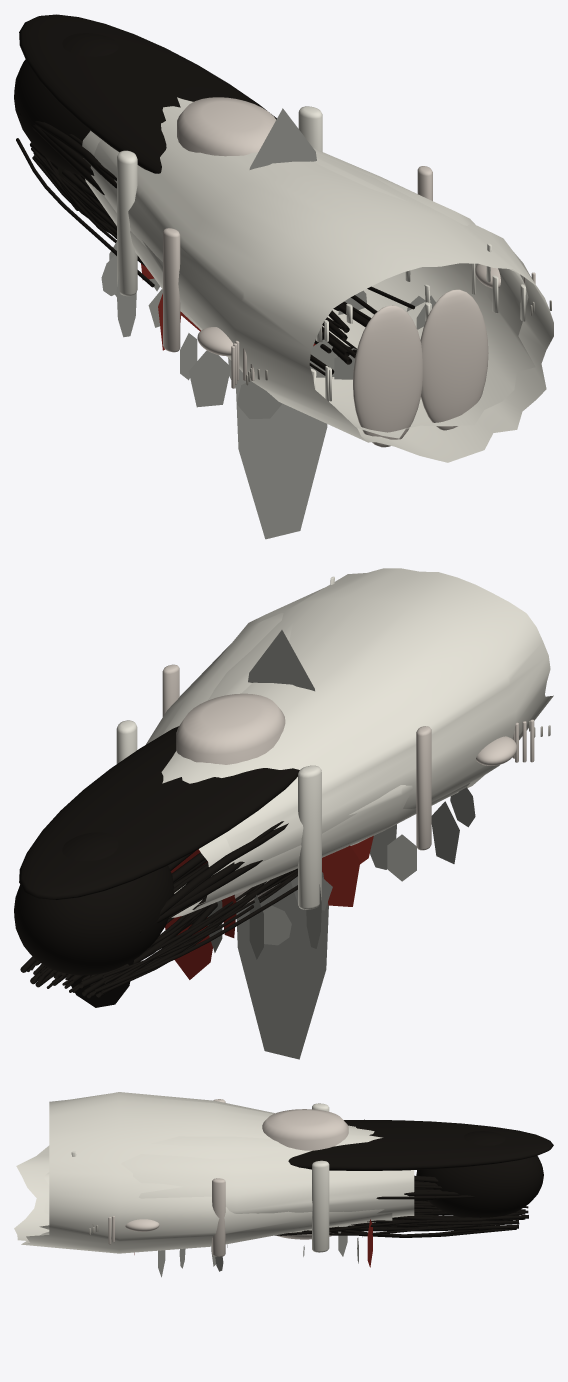
File: yurei_woman_v1.glb
3 renders of one model, top to bottom at view 1: azimuth 30°, elevation 25°; view 2: azimuth 150°, elevation 25°; view 3: azimuth 270°, elevation 25°, orthographic. The views are drawn at different scales.
Visible parts, largest first — view 1: ragged outer robe panels, long back hair sheet, torn long white dress, vertical damp front shadow, -1 barely visible bare foot, 1 barely visible bare foot, thin hidden torso, wet black hair mass, -1 thin upper arm under sleeve, -1 hanging forearm, robe dirt stain 15, robe dirt stain 06 (+5 smaller); view 2: ragged outer robe panels, long back hair sheet, wet black hair mass, vertical damp front shadow, torn long white dress, thin hidden torso, -1 thin upper arm under sleeve, -1 hanging forearm, robe dirt stain 27, robe dirt stain 15, side hair lock -1_06, old chest stain (+15 smaller); view 3: ragged outer robe panels, torn long white dress, long back hair sheet, wet black hair mass, thin hidden torso, 1 thin upper arm under sleeve, 1 hanging forearm, front wet hair strand 42, front wet hair strand 18, front wet hair strand 39, front wet hair strand 36, front wet hair strand 50 (+3 smaller).
Part boxes in pixels (box(x1,y1,x2,y2)): ragged outer robe panels: box(90, 97, 553, 462); long back hair sheet: box(19, 14, 276, 173); torn long white dress: box(82, 130, 535, 438); vertical damp front shadow: box(236, 108, 327, 539); -1 barely visible bare foot: box(353, 305, 422, 447); 1 barely visible bare foot: box(420, 289, 488, 430); thin hidden torso: box(177, 97, 275, 156); wet black hair mass: box(14, 33, 118, 175); -1 thin upper arm under sleeve: box(117, 150, 137, 296); -1 hanging forearm: box(163, 228, 180, 352); robe dirt stain 15: box(188, 350, 230, 407); robe dirt stain 06: box(236, 380, 282, 418); ragged outer robe panels: box(161, 568, 553, 906); long back hair sheet: box(19, 726, 299, 900); wet black hair mass: box(14, 832, 174, 975); vertical damp front shadow: box(236, 630, 328, 1059); torn long white dress: box(146, 613, 469, 917); thin hidden torso: box(176, 693, 285, 902); -1 thin upper arm under sleeve: box(298, 765, 321, 909); -1 hanging forearm: box(416, 726, 431, 850); robe dirt stain 27: box(322, 845, 360, 906); robe dirt stain 15: box(431, 801, 459, 863); side hair lock -1_06: box(140, 823, 288, 931); old chest stain: box(165, 849, 212, 979); ragged outer robe panels: box(14, 1092, 392, 1253); torn long white dress: box(39, 1136, 414, 1235); long back hair sheet: box(288, 1119, 553, 1170); wet black hair mass: box(416, 1131, 543, 1217); thin hidden torso: box(262, 1109, 348, 1239); 1 thin upper arm under sleeve: box(312, 1160, 329, 1252); 1 hanging forearm: box(212, 1178, 225, 1256); front wet hair strand 42: box(275, 1219, 518, 1235); front wet hair strand 18: box(392, 1215, 528, 1220); front wet hair strand 39: box(302, 1224, 484, 1235); front wet hair strand 36: box(329, 1229, 491, 1237); front wet hair strand 50: box(349, 1224, 518, 1231).
Bounding box in the file's own units: 1.15 × 1.51 × 2.71.
